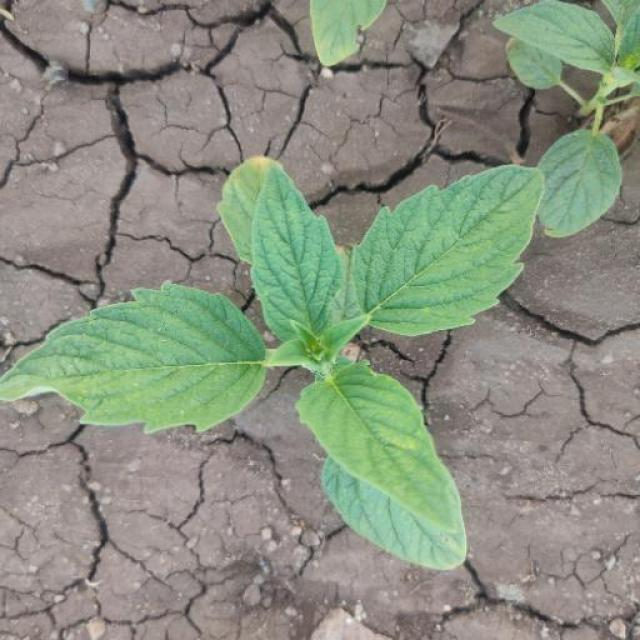crop: (2, 139, 552, 581)
